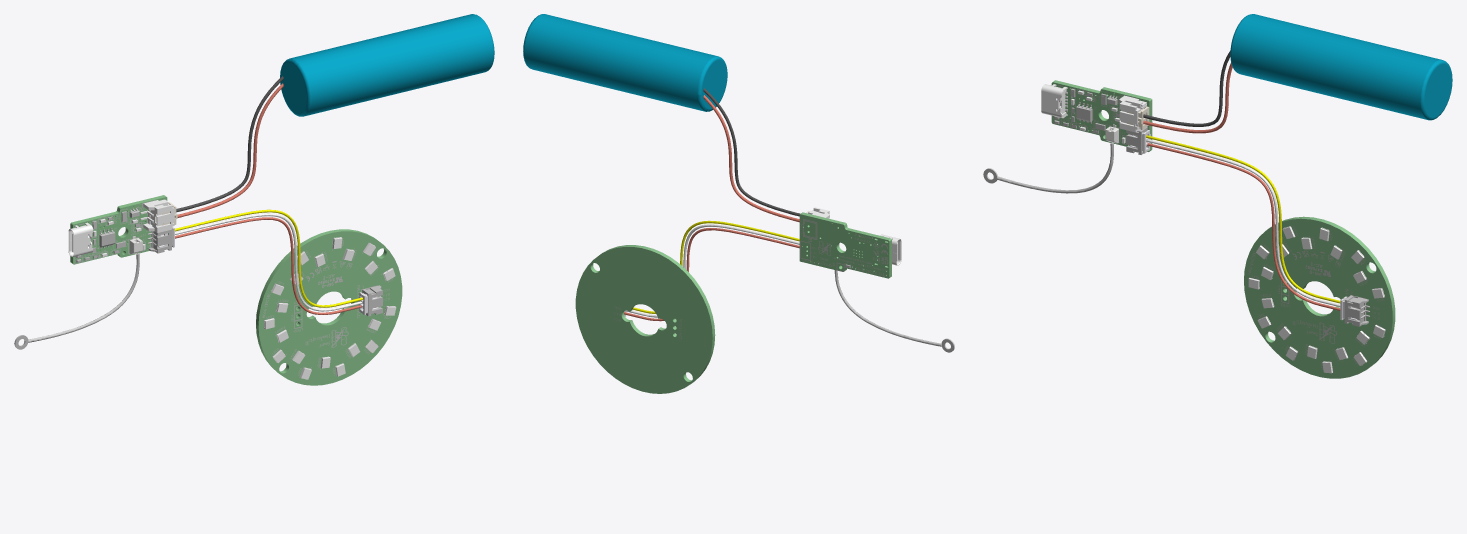
The model's file is 3D_202-LC (Assembled).glb.
3 renders of one model, left to right at view 1: azimuth 30°, elevation 25°; view 2: azimuth 150°, elevation 25°; view 3: azimuth 330°, elevation 25°, orthographic. The views are drawn at different scales.
Parts seen in each view (by area): view 1: empty_434, empty_781, empty_2, empty_337, empty_780, empty_779, empty_778, empty_782, empty_783, empty_784, empty_394; view 2: empty_434, empty_781, empty_2, empty_782, empty_783, empty_784, empty_778, empty_779, empty_780; view 3: empty_434, empty_781, empty_2, empty_779, empty_780, empty_778, empty_394, empty_782, empty_337, empty_771, empty_783, empty_784.
Part boxes in pixels (box(x1,y1,x2,y2)): empty_434: box(256, 229, 402, 385); empty_781: box(280, 14, 494, 116); empty_2: box(70, 195, 167, 264); empty_337: box(140, 199, 174, 232); empty_780: box(175, 209, 363, 307); empty_779: box(175, 213, 362, 311); empty_778: box(175, 217, 361, 314); empty_782: box(14, 239, 139, 349); empty_783: box(176, 76, 283, 212); empty_784: box(177, 83, 283, 217); empty_394: box(68, 222, 93, 257); empty_434: box(575, 245, 715, 393); empty_781: box(523, 14, 727, 111); empty_2: box(799, 212, 891, 278); empty_782: box(834, 270, 954, 352); empty_783: box(703, 88, 800, 216); empty_784: box(703, 95, 799, 222); empty_778: box(624, 228, 799, 321); empty_779: box(624, 224, 799, 317); empty_780: box(632, 220, 799, 313); empty_434: box(1244, 216, 1395, 378); empty_781: box(1230, 14, 1452, 120); empty_2: box(1051, 80, 1152, 151); empty_779: box(1146, 139, 1340, 306); empty_780: box(1146, 135, 1340, 303); empty_778: box(1146, 142, 1340, 310); empty_394: box(1041, 84, 1067, 118); empty_782: box(983, 127, 1113, 193); empty_337: box(1119, 95, 1146, 132); empty_771: box(1344, 295, 1369, 326); empty_783: box(1143, 50, 1230, 126); empty_784: box(1143, 62, 1232, 133).
Bounding box in the file's own units: 0.1572 × 0.1612 × 0.0214.
